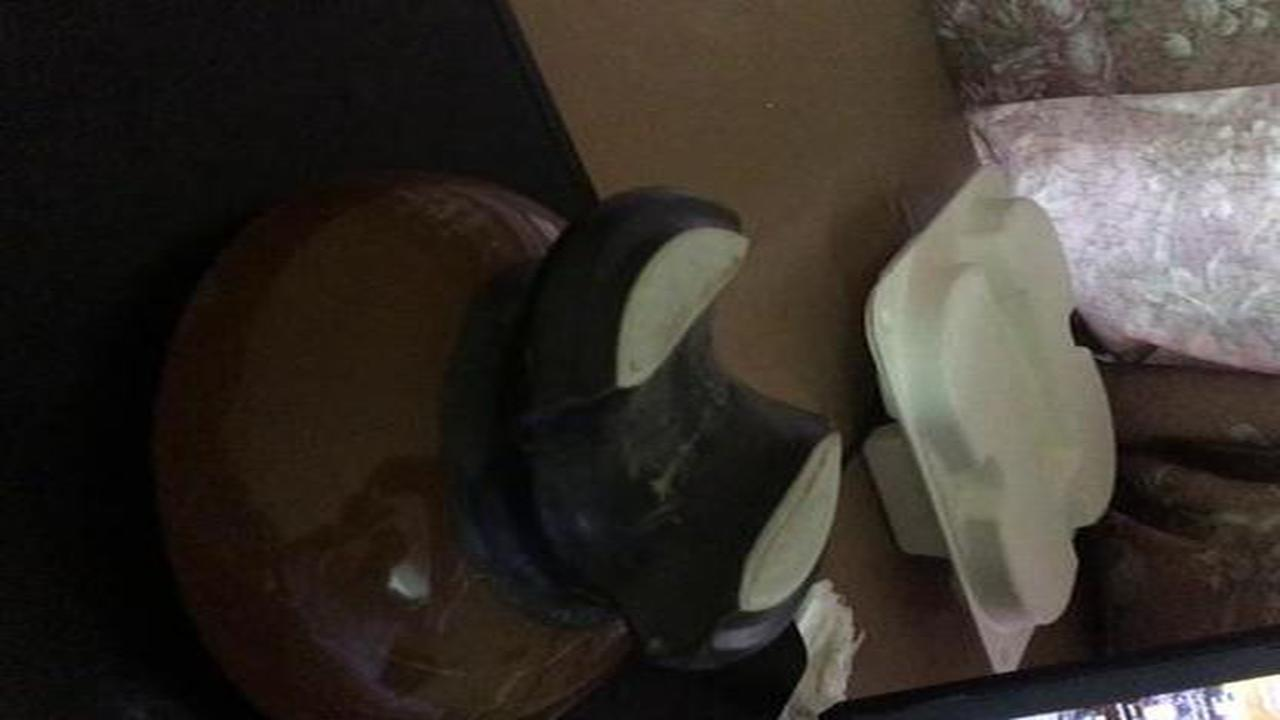insulator_pin: (130, 148, 874, 720)
